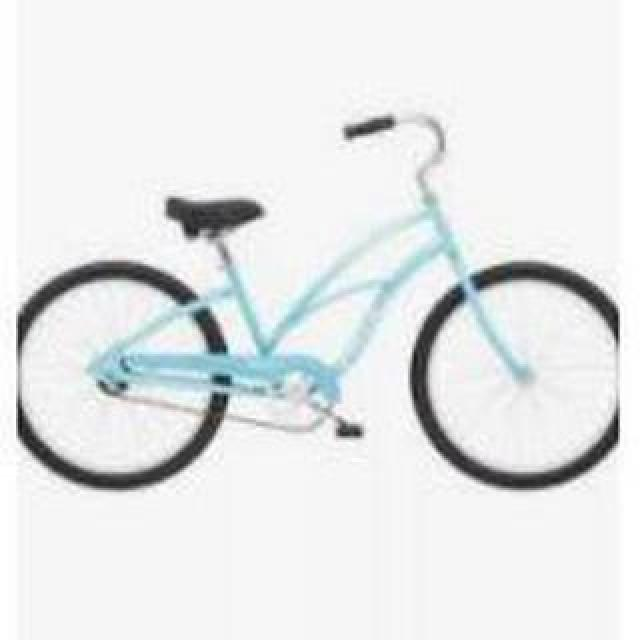Person: (17, 109, 621, 507)
